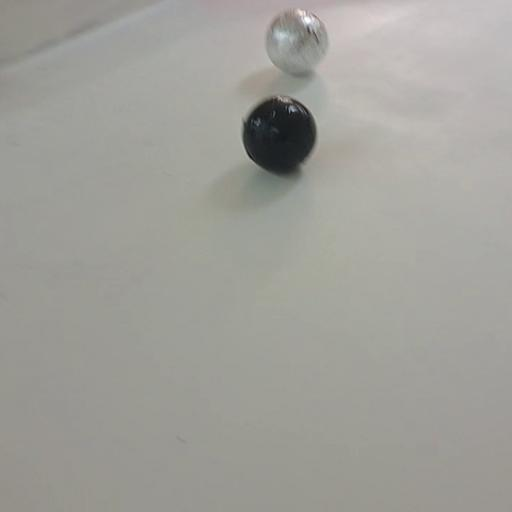alive: (264, 7, 330, 76)
dead: (241, 93, 319, 173)
